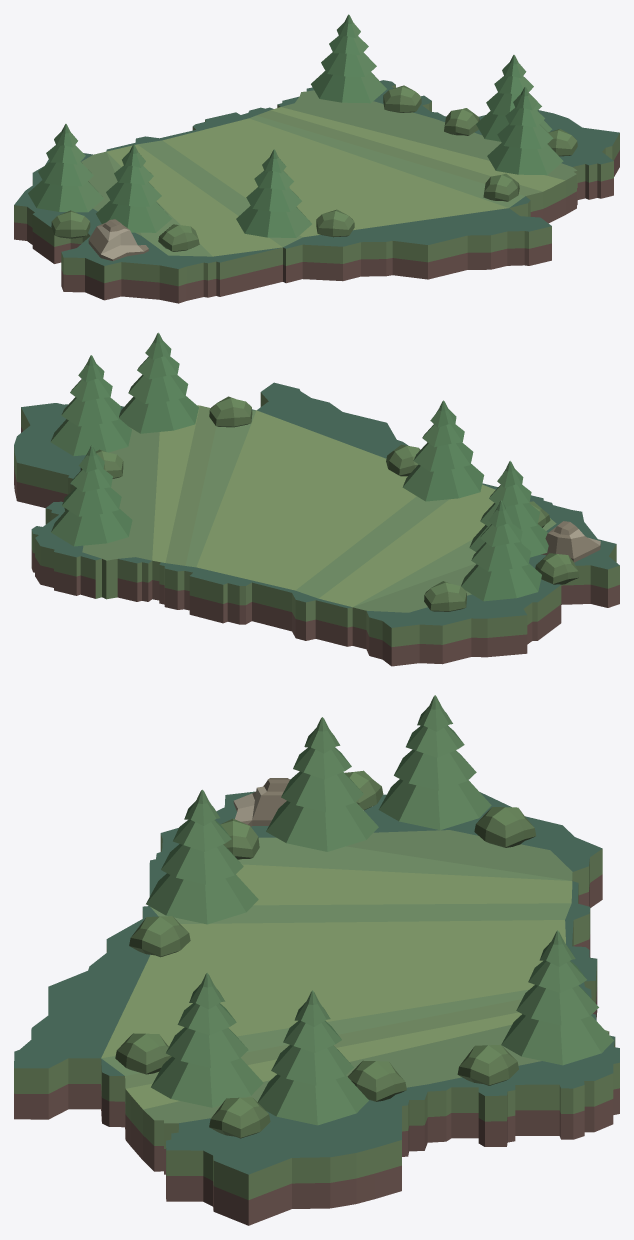
File: srednekolimsk.gltf
The picture shows the model from 3 angles, top to bottom: view 1: azimuth 30°, elevation 25°; view 2: azimuth 150°, elevation 25°; view 3: azimuth 270°, elevation 25°; orthographic projection. The views are drawn at different scales.
Visible parts, largest first — view 1: среднеколымск; view 2: среднеколымск; view 3: среднеколымск.
Part boxes in pixels (x1=…): среднеколымск: x1=14, y1=14, x2=619, y2=303; среднеколымск: x1=14, y1=332, x2=619, y2=666; среднеколымск: x1=14, y1=695, x2=619, y2=1225.
Bounding box in the file's own units: 2.59 × 0.5325 × 1.68.
